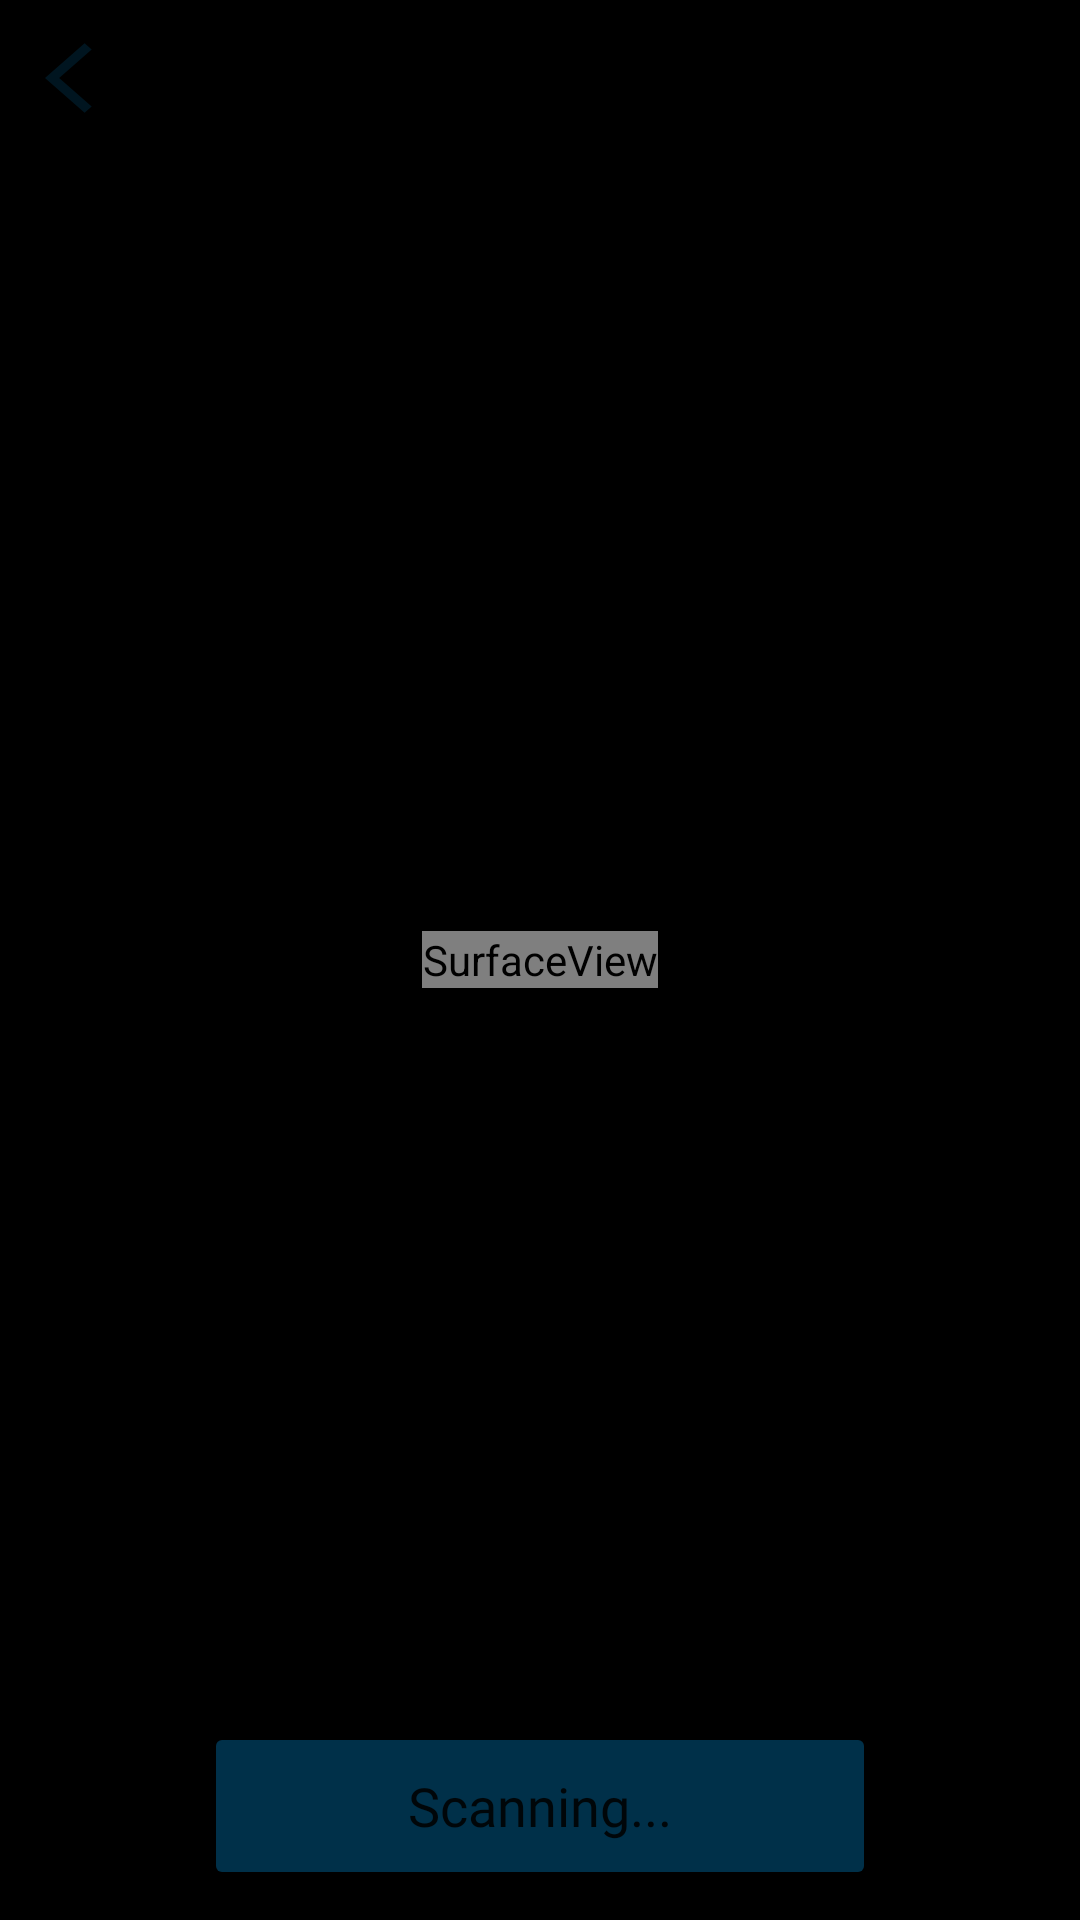

Point at icon controls on the screen. Image size 1080px×1920px, points as (x,y).
arrow back: (68,78)
